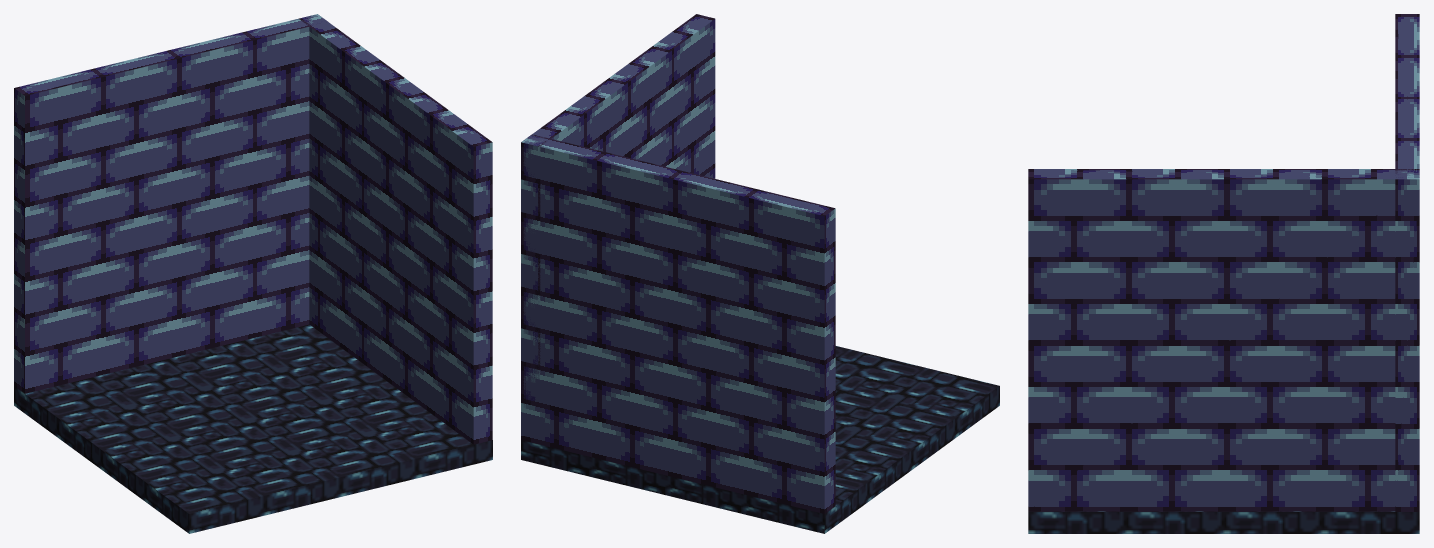
File: corner_ne.obj
3 renders of one model, left to right at view 1: azimuth 30°, elevation 25°; view 2: azimuth 150°, elevation 25°; view 3: azimuth 270°, elevation 25°, orthographic. The views are drawn at different scales.
Parts seen in each view (by area): view 1: wall, floor; view 2: wall, floor; view 3: wall, floor.
Part boxes in pixels (bbox=[...]): wall: bbox=[14, 14, 492, 444]; floor: bbox=[14, 324, 492, 533]; wall: bbox=[521, 14, 835, 513]; floor: bbox=[521, 346, 999, 533]; wall: bbox=[1028, 14, 1419, 511]; floor: bbox=[1028, 511, 1419, 533].
Size of the model in its own units: 16 by 16 by 16.
Materials: 2 (2 with a texture image).
